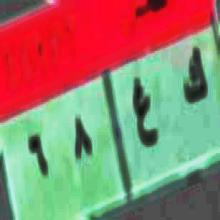6: (24, 125, 50, 183)
8: (73, 111, 92, 168)
ghayn: (132, 73, 157, 157)
kaaf: (178, 44, 210, 113)
